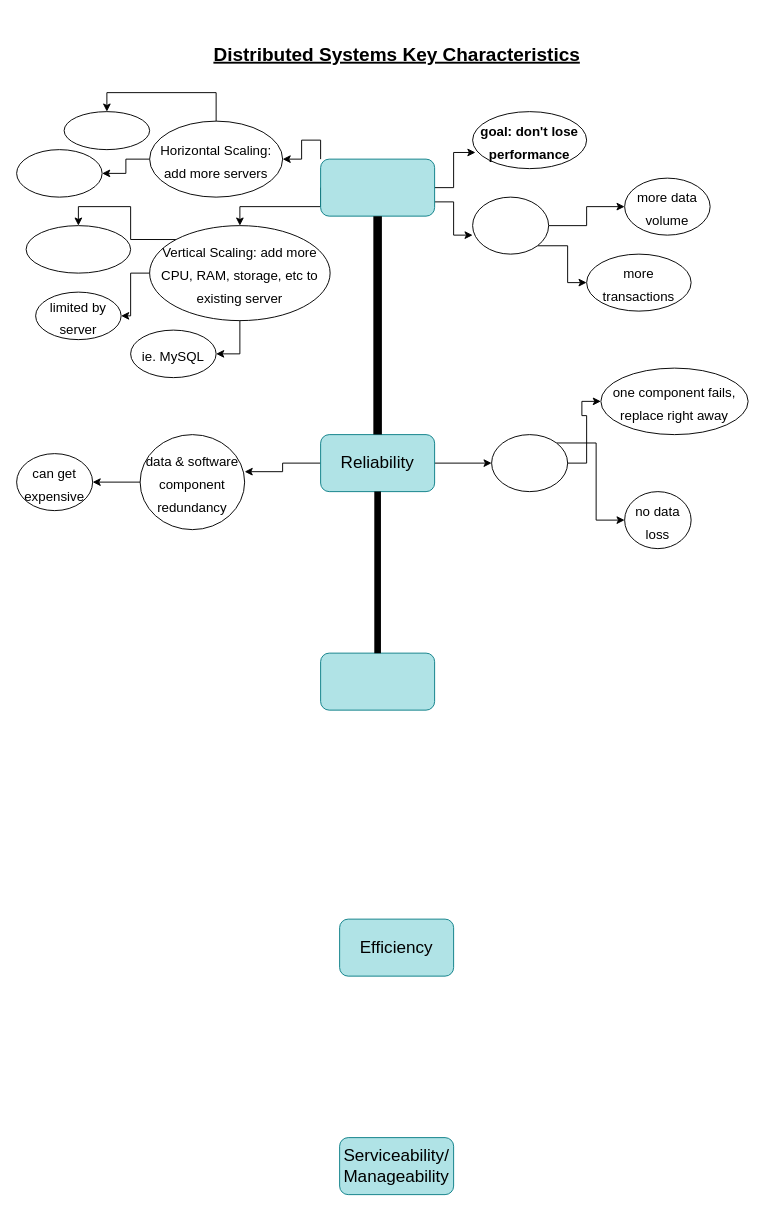
Some shapes in this 765 by 1211 pixel diagram are drawn without their labels. The centre of each missing label's shape, as x and y in pixels:
Availability: the point at 377,681
easier to do: the point at 106,130
ie. MongoDB: the point at 59,173
network growth: the point at 510,225
no system failure: the point at 529,463
requires downtime: the point at 78,249
Scalability: the point at 377,187
